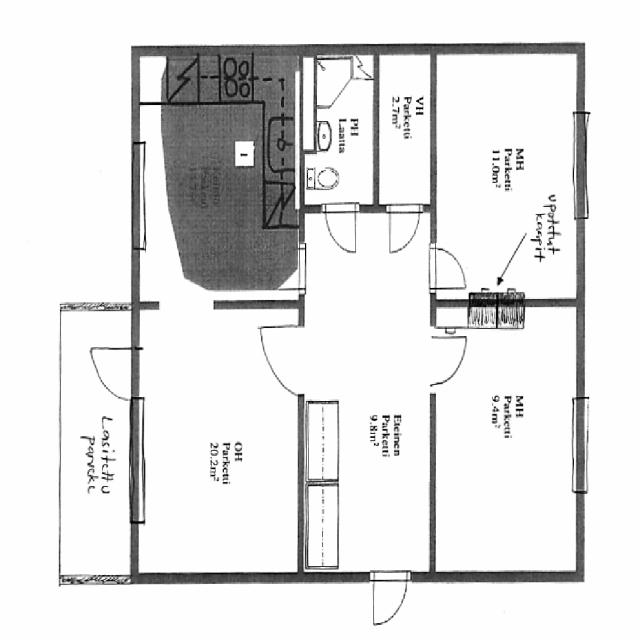door: (256, 322, 302, 397), (367, 567, 412, 629), (87, 345, 133, 401), (322, 202, 361, 258), (385, 202, 423, 257), (430, 240, 469, 292)
window: (567, 105, 594, 222), (566, 392, 594, 498), (129, 398, 147, 525), (130, 141, 147, 255), (296, 241, 308, 295)
zone: (302, 205, 434, 573), (133, 303, 301, 571), (136, 49, 299, 307), (433, 303, 578, 582), (433, 52, 578, 310), (299, 50, 376, 204), (376, 50, 433, 207), (434, 304, 470, 329)
